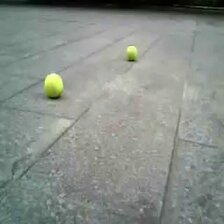tennis: (44, 74, 63, 97), (126, 46, 138, 60)
